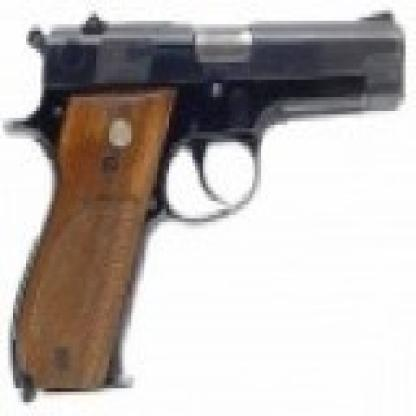gun: (12, 8, 408, 394)
